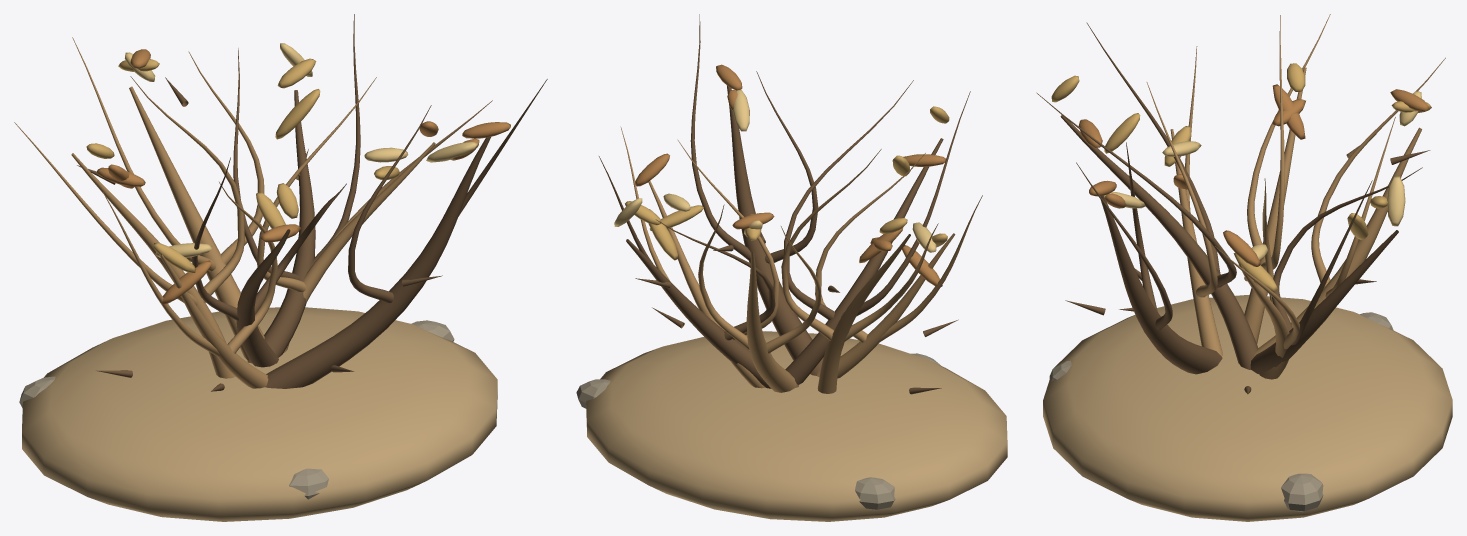
The model's file is arbusto_seco.glb.
The picture shows the model from 3 angles, left to right: view 1: azimuth 30°, elevation 25°; view 2: azimuth 150°, elevation 25°; view 3: azimuth 270°, elevation 25°; orthographic projection. The views are drawn at different scales.
Visible parts, largest first — view 1: Pequeno monte de areia, Vegetação do deserto | Galho seco | sombra, Vegetação do deserto | Galho seco | sol queimado, Vegetação do deserto | Folhas ressecadas | ocre, Vegetação do deserto | Folhas ressecadas | ferrugem, Vegetação do deserto | Folhas ressecadas | palha, Vegetação do deserto | Seixos áridos; view 2: Pequeno monte de areia, Vegetação do deserto | Galho seco | sombra, Vegetação do deserto | Galho seco | sol queimado, Vegetação do deserto | Folhas ressecadas | ferrugem, Vegetação do deserto | Folhas ressecadas | ocre, Vegetação do deserto | Folhas ressecadas | palha, Vegetação do deserto | Seixos áridos; view 3: Pequeno monte de areia, Vegetação do deserto | Galho seco | sombra, Vegetação do deserto | Galho seco | sol queimado, Vegetação do deserto | Folhas ressecadas | ferrugem, Vegetação do deserto | Folhas ressecadas | ocre, Vegetação do deserto | Folhas ressecadas | palha, Vegetação do deserto | Seixos áridos.
Boxes of the visible parts, x1,y1,x2,y2 form: Pequeno monte de areia: (22, 307, 497, 521); Vegetação do deserto | Galho seco | sombra: (77, 14, 547, 391); Vegetação do deserto | Galho seco | sol queimado: (14, 37, 492, 388); Vegetação do deserto | Folhas ressecadas | ocre: (86, 58, 399, 273); Vegetação do deserto | Folhas ressecadas | ferrugem: (97, 49, 510, 304); Vegetação do deserto | Folhas ressecadas | palha: (124, 43, 477, 257); Vegetação do deserto | Seixos áridos: (19, 320, 454, 499); Pequeno monte de areia: (586, 331, 1007, 521); Vegetação do deserto | Galho seco | sombra: (599, 14, 970, 394); Vegetação do deserto | Galho seco | sol queimado: (620, 126, 982, 393); Vegetação do deserto | Folhas ressecadas | ferrugem: (634, 64, 945, 287); Vegetação do deserto | Folhas ressecadas | ocre: (625, 106, 949, 260); Vegetação do deserto | Folhas ressecadas | palha: (614, 89, 936, 252); Vegetação do deserto | Seixos áridos: (576, 353, 940, 510); Pequeno monte de areia: (1043, 295, 1452, 521); Vegetação do deserto | Galho seco | sombra: (1036, 22, 1430, 394); Vegetação do deserto | Galho seco | sol queimado: (1146, 14, 1445, 379); Vegetação do deserto | Folhas ressecadas | ferrugem: (1078, 84, 1429, 266); Vegetação do deserto | Folhas ressecadas | ocre: (1051, 63, 1431, 291); Vegetação do deserto | Folhas ressecadas | palha: (1104, 91, 1421, 263); Vegetação do deserto | Seixos áridos: (1049, 312, 1393, 512).
Size of the model in its own units: 0.6753 by 0.5994 by 0.5807.
